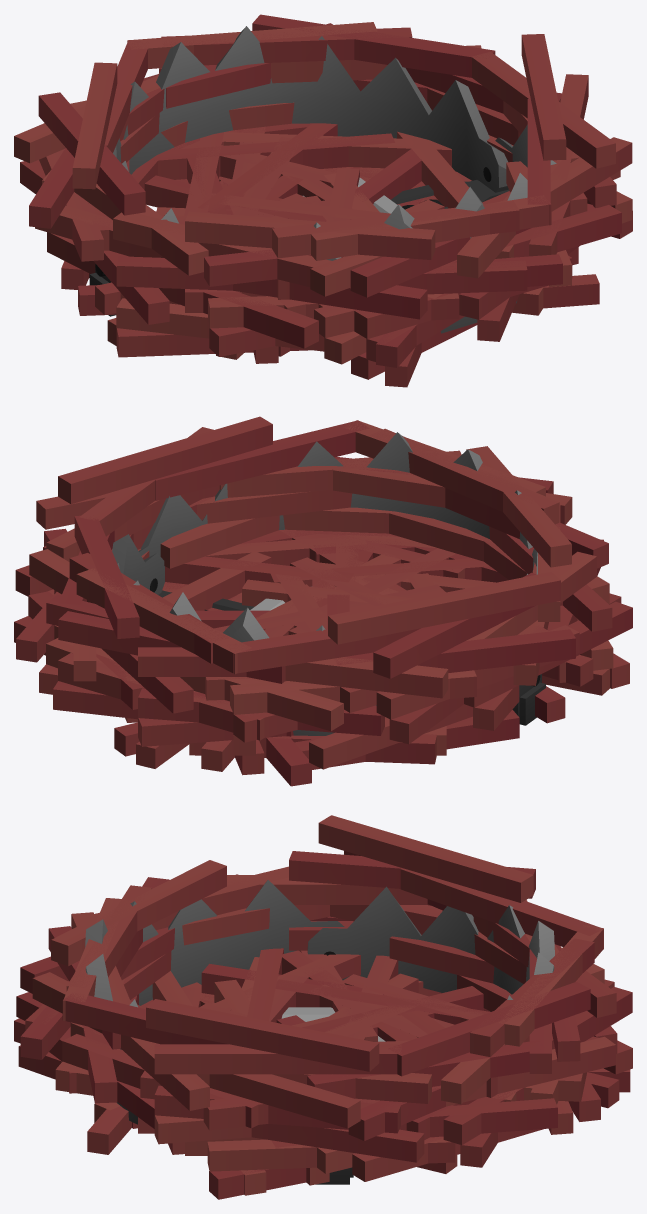
The model's file is Trap&nest.fbx.
The picture shows the model from 3 angles, top to bottom: view 1: azimuth 30°, elevation 25°; view 2: azimuth 150°, elevation 25°; view 3: azimuth 270°, elevation 25°; orthographic projection.
Visible parts, largest first — view 1: nest, Trap; view 2: nest, Trap; view 3: nest, Trap.
Part boxes in pixels (<box>): nest: <box>14,14,632,387</box>; Trap: <box>89,26,556,333</box>; nest: <box>14,416,632,786</box>; Trap: <box>112,432,545,735</box>; nest: <box>14,815,632,1199</box>; Trap: <box>85,880,554,1184</box>.
Size of the model in its own units: 100 by 25.46 by 98.37.
